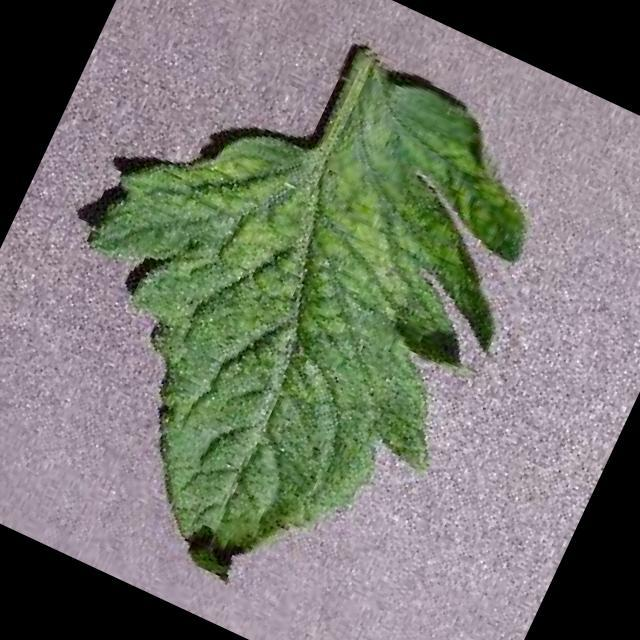Tomato mosaic virus leaf: (0, 0, 583, 640)
